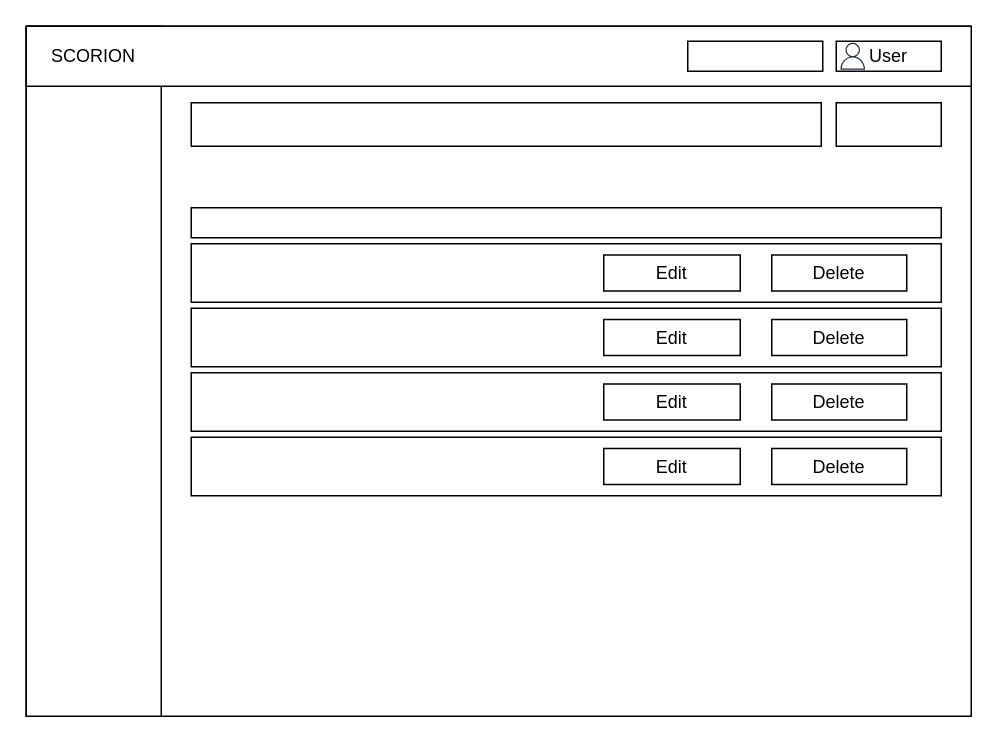
Image size: 998x743. Some labels were removed from this diagram. Each missing label, with the centre of its shape:
Add Module: [888,123]
ID LABEL: [565,222]
Notifications: [754,55]
Search Bar: [505,123]
Tests Sprints Modules User & Roles: [93,370]
